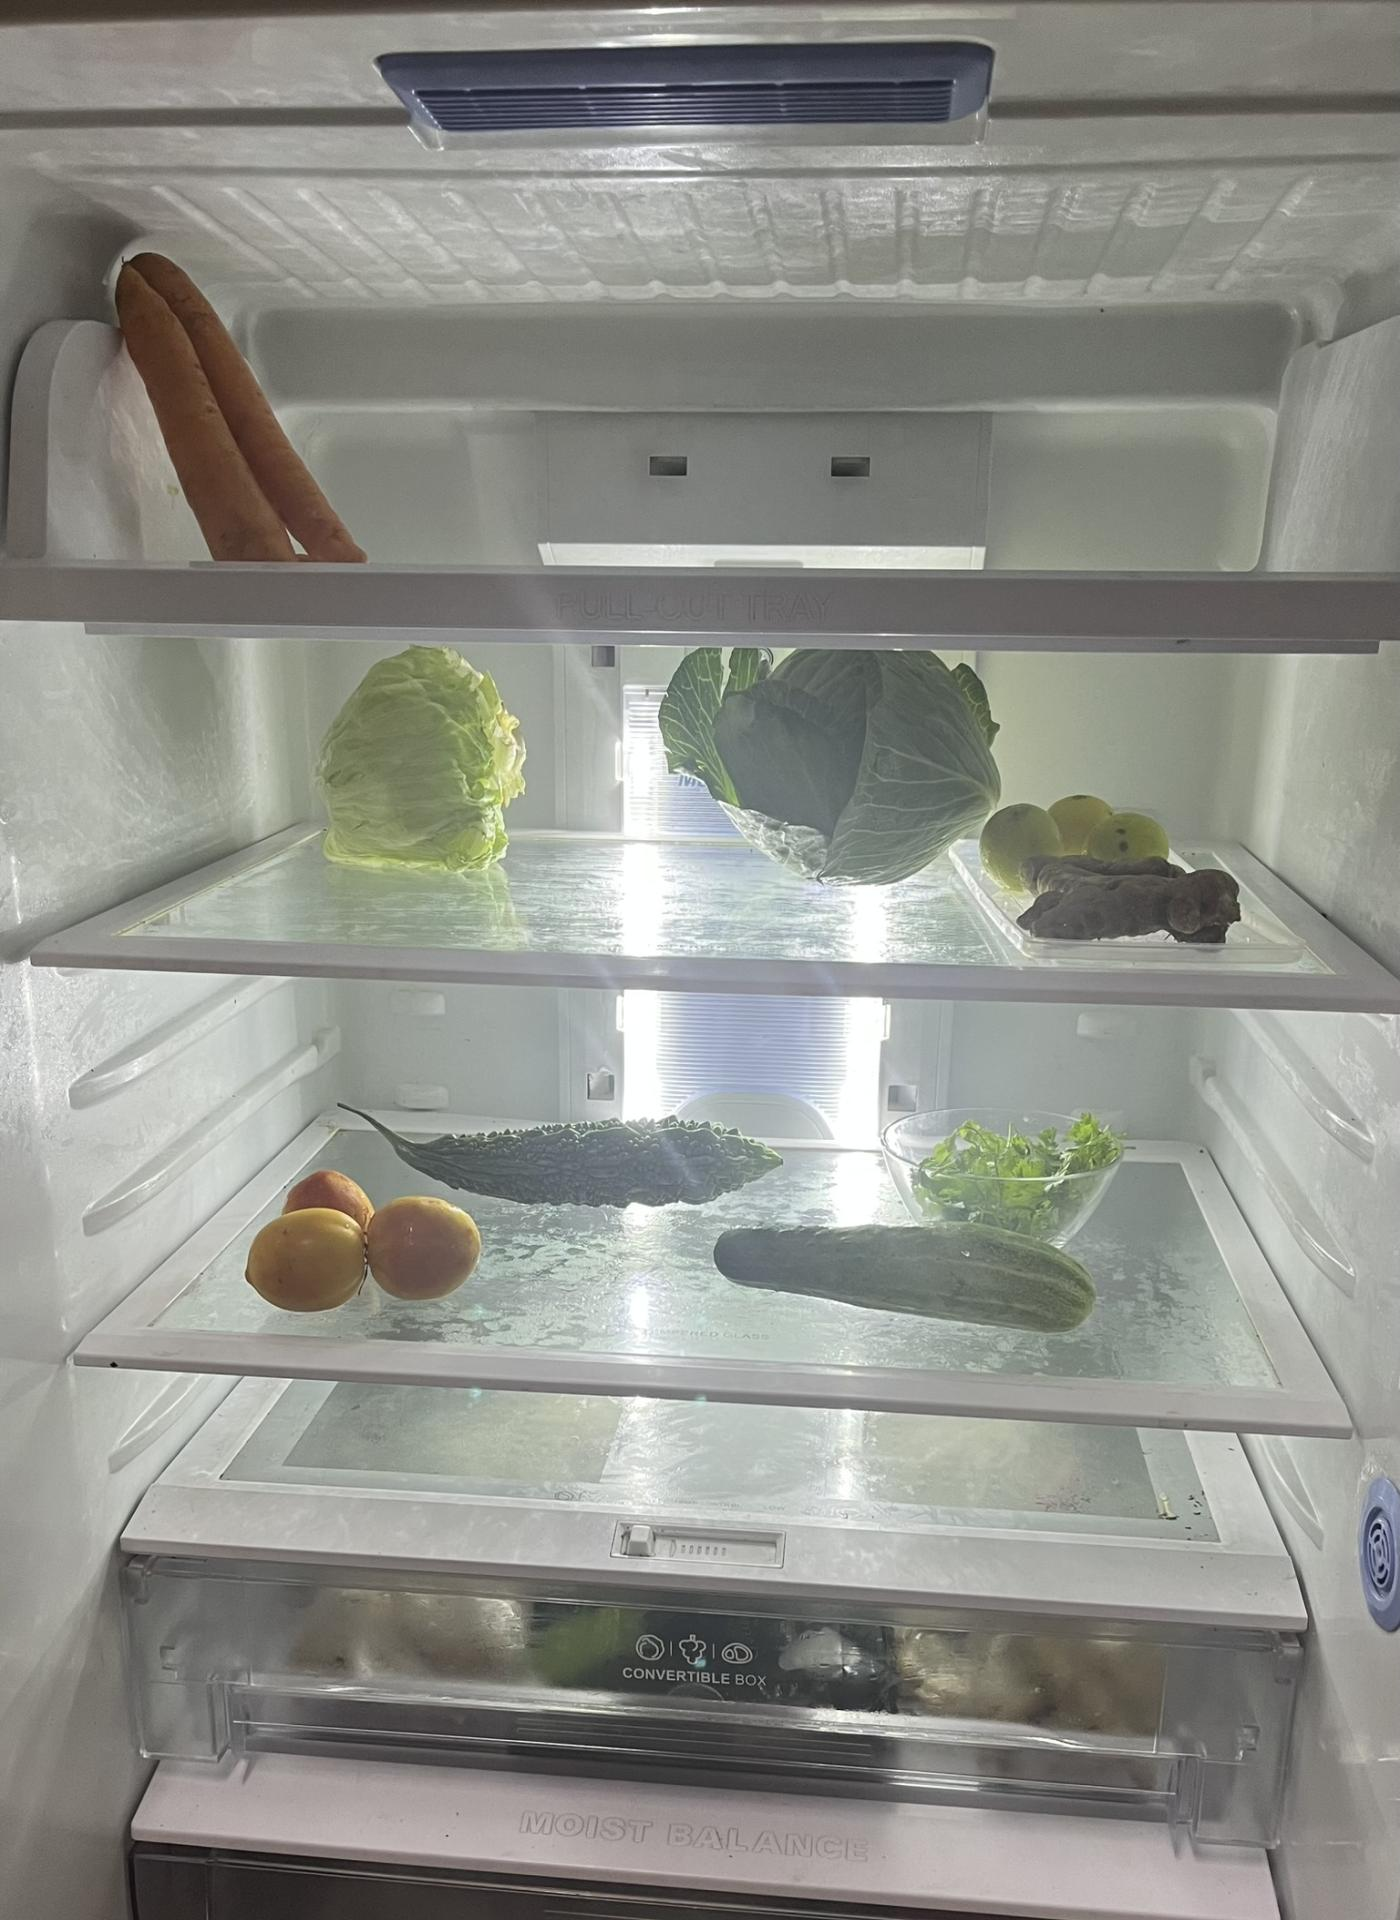bitter gourd: (350, 1114, 784, 1207)
cabbage: (658, 645, 997, 887)
carrots: (115, 256, 364, 559)
coriander: (912, 1109, 1130, 1222)
cucumber: (717, 1224, 1100, 1336)
ginger: (1018, 860, 1243, 942)
lemon: (987, 789, 1169, 885)
lettuce: (319, 642, 526, 868)
tomato: (245, 1173, 479, 1309)
